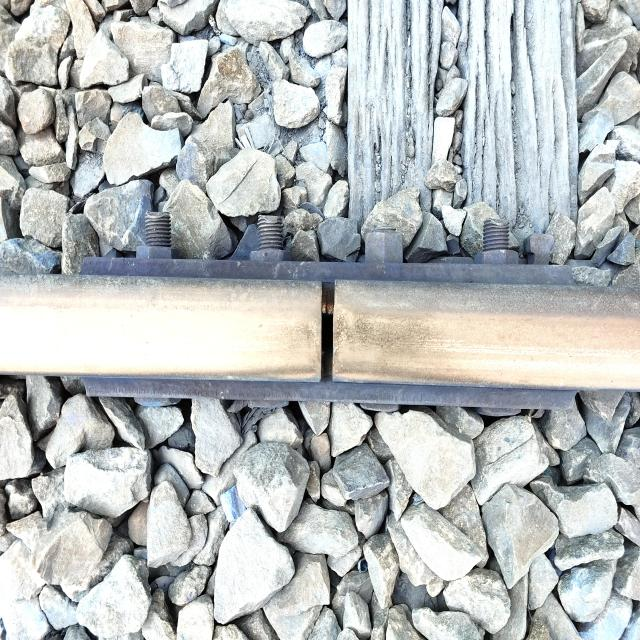crack: (303, 259, 352, 393)
